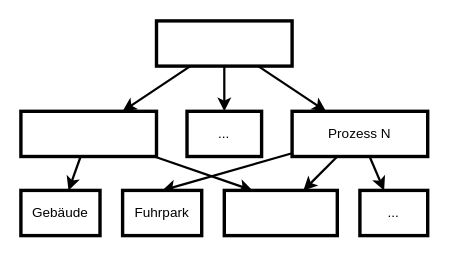
This 449x257 diagram has some shape labels left out. Here are the shapes that lost their labels. From the top down, the centre of each, then its label:
At point (223, 43): "Dienstleistung".
At point (88, 133): "Prozess 1".
At point (280, 212): "Softwaresysteme".
